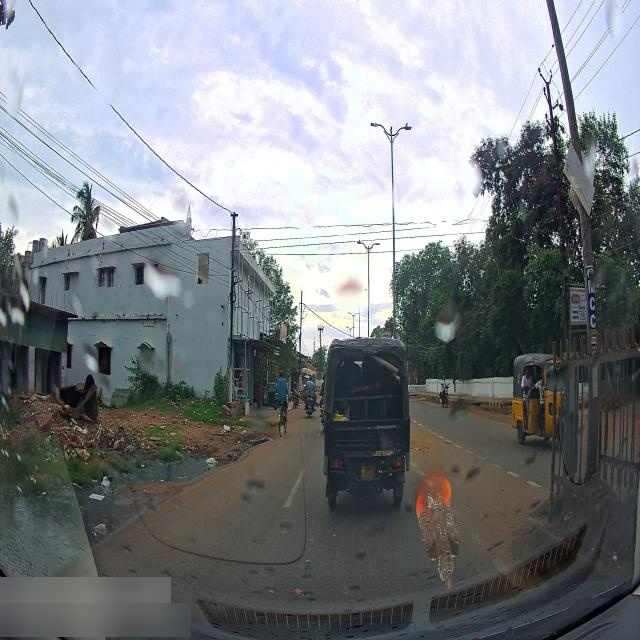pothole: (6, 484, 123, 544), (120, 459, 212, 477)
